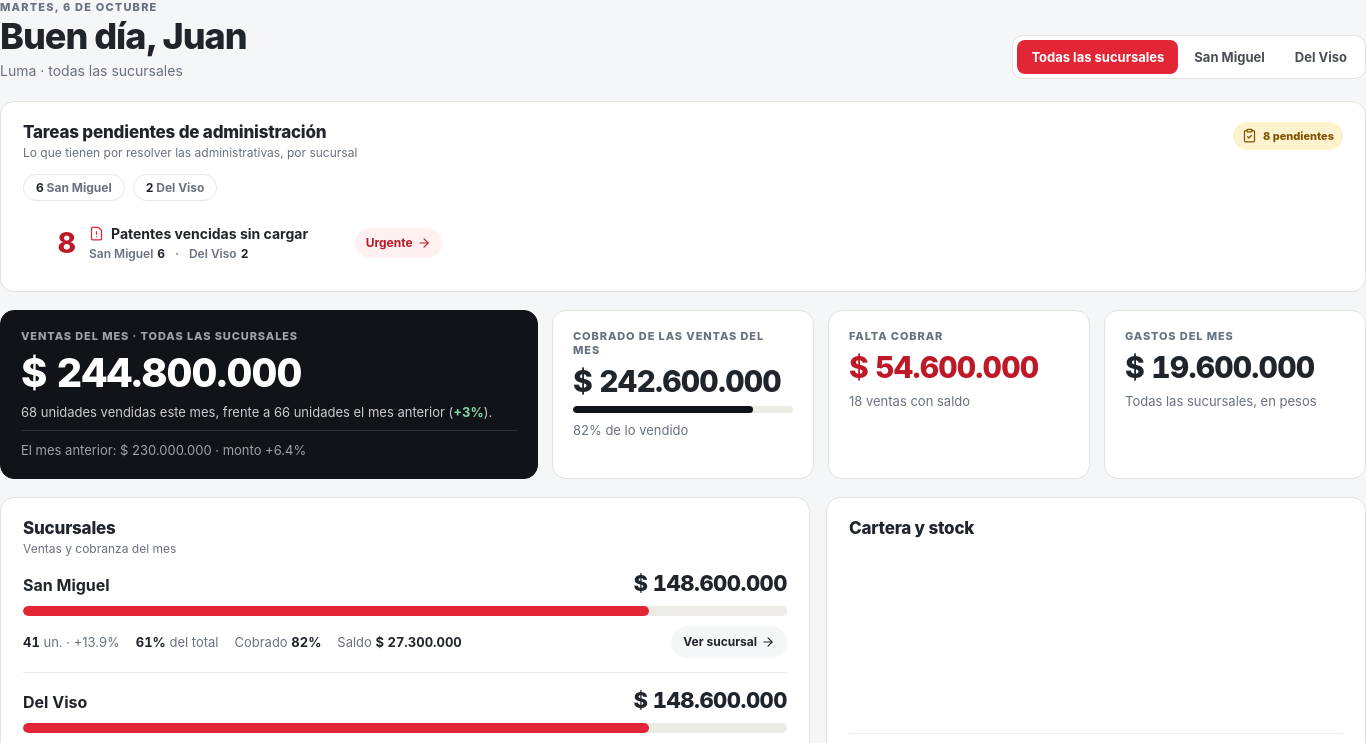
Inicio del administrador por sucursal › muestra una sola sucursal al elegirla y vuelve a la consolidada
Click the button "Del Viso".
click(1321, 57)  # box [1281,40,1361,74]
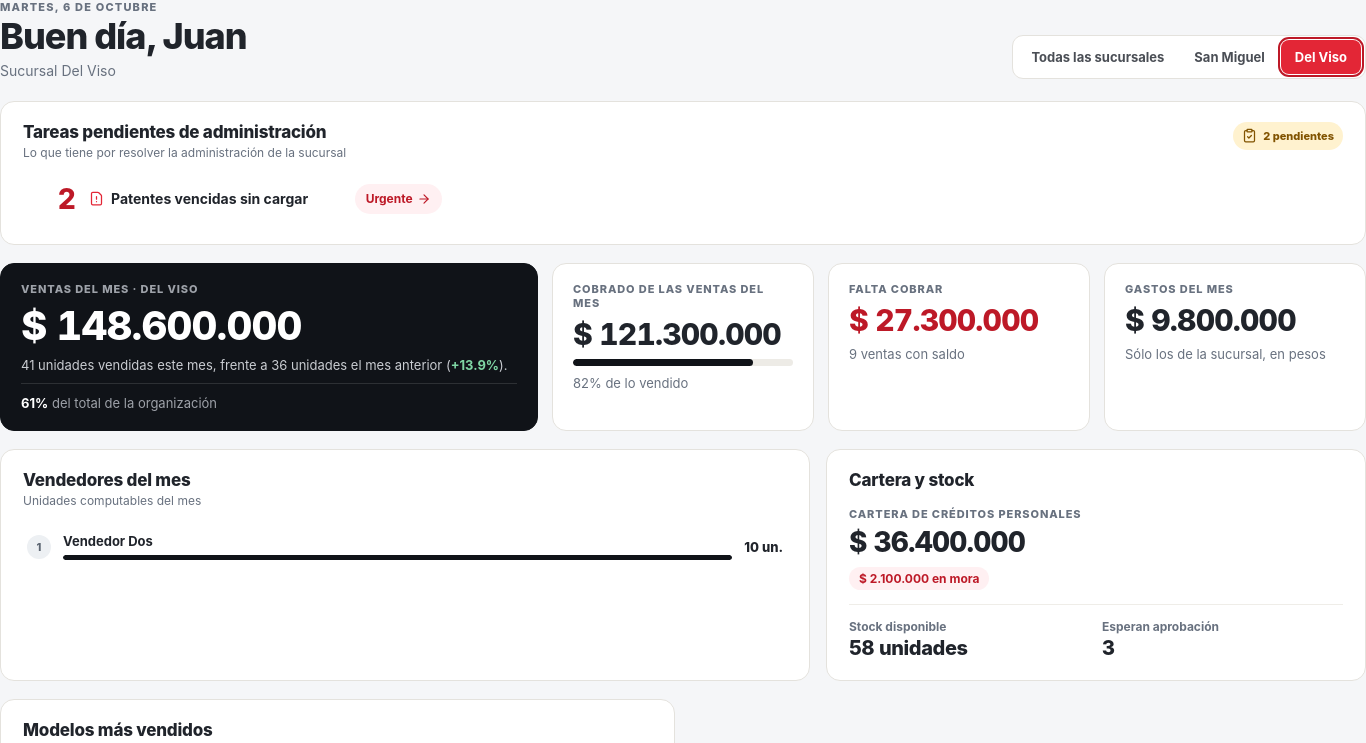
Expected: the text "VENTAS DEL MES · DEL VISO" is shown, [21,282,198,296]
Expected: the text "VENTAS DEL MES · TODAS LAS SUCURSALES" is gone
Expected: the text "9 ventas con saldo" is shown, [849,346,965,362]
Click the button "Todas las sucursales".
click(1098, 57)  # box [1017,40,1178,74]
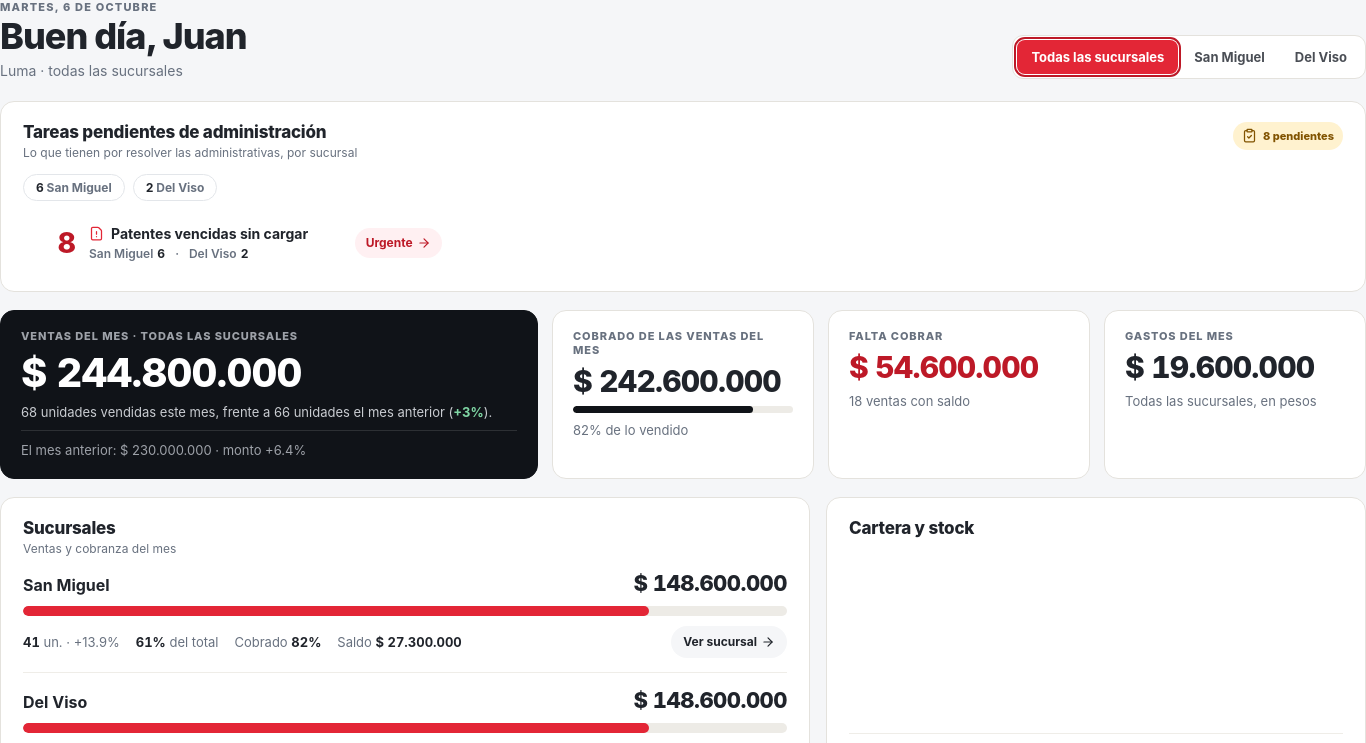
Expected: the text "VENTAS DEL MES · TODAS LAS SUCURSALES" is shown, [21,329,298,343]
